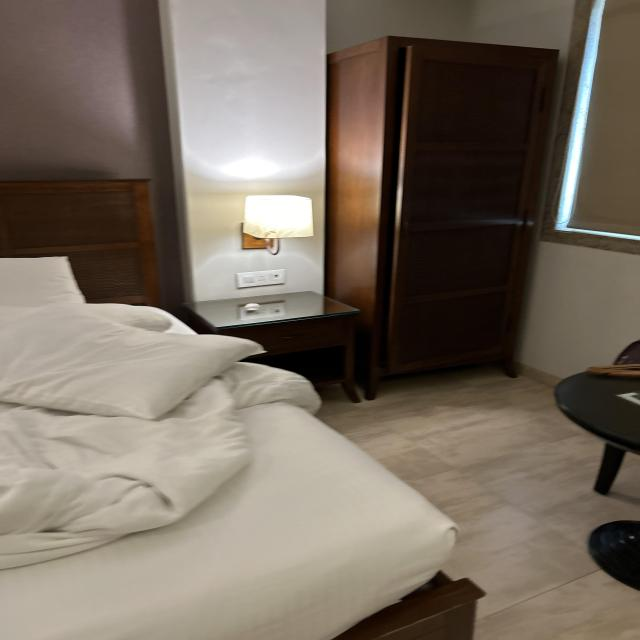mess: (161, 370, 517, 640), (0, 254, 214, 640), (552, 324, 640, 442)
